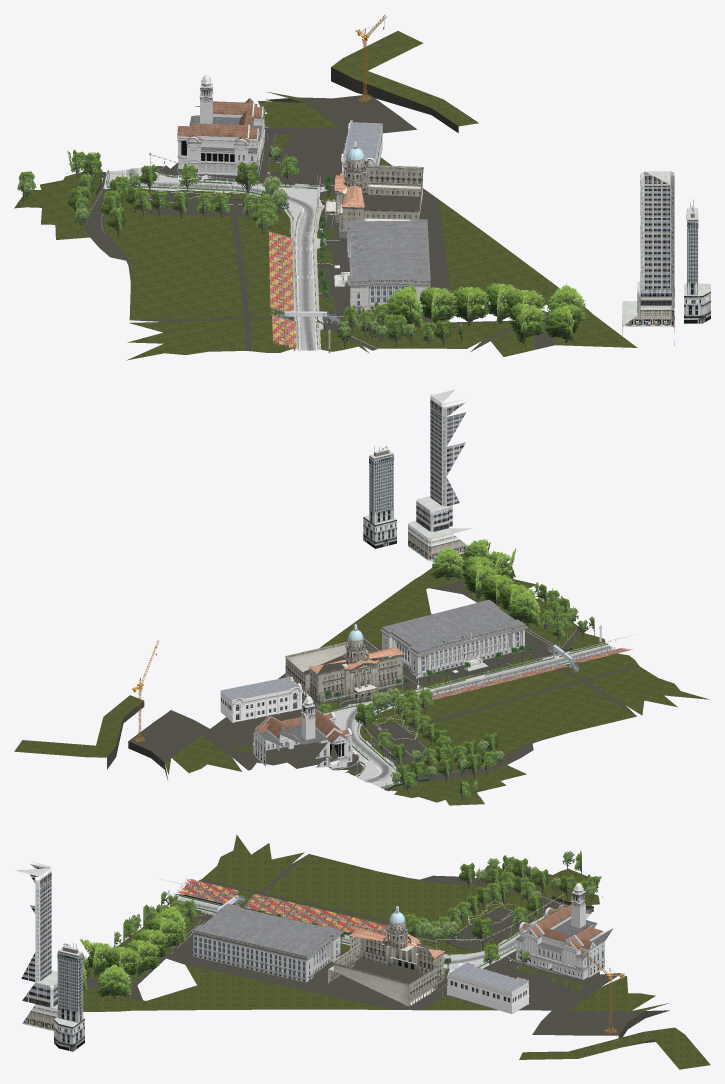
3 renders of one model, top to bottom at view 1: azimuth 30°, elevation 25°; view 2: azimuth 150°, elevation 25°; view 3: azimuth 270°, elevation 25°, orthographic. The views are drawn at different scales.
Parts seen in each view (by area): view 1: m97_t06, m14_t06, m96_t06, m29_t06, m46_t06, m63_t06, m68_t06, m15_t06, m9_t06, m16_t06, m67_t06, m0_t06 (+7 smaller); view 2: m97_t06, m14_t06, m96_t06, m29_t06, m46_t06, m68_t06, m63_t06, m32_t06, m15_t06, m67_t06, m16_t06, m72_t06 (+4 smaller); view 3: m97_t06, m96_t06, m14_t06, m46_t06, m29_t06, m63_t06, m68_t06, m32_t06, m67_t06, m9_t06, m13_t06, m88_t06 (+5 smaller).
Part boxes in pixels (bbox=[...]): m97_t06: bbox=[14, 31, 637, 360]; m14_t06: bbox=[17, 145, 586, 351]; m96_t06: bbox=[84, 67, 555, 351]; m29_t06: bbox=[622, 171, 710, 349]; m46_t06: bbox=[334, 219, 430, 311]; m63_t06: bbox=[177, 75, 265, 175]; m68_t06: bbox=[325, 147, 423, 240]; m15_t06: bbox=[126, 168, 316, 350]; m9_t06: bbox=[269, 232, 295, 349]; m16_t06: bbox=[103, 167, 326, 351]; m67_t06: bbox=[325, 140, 422, 221]; m0_t06: bbox=[101, 136, 407, 353]; m97_t06: bbox=[14, 553, 709, 805]; m14_t06: bbox=[318, 539, 594, 803]; m96_t06: bbox=[107, 580, 639, 790]; m29_t06: bbox=[363, 389, 472, 561]; m46_t06: bbox=[380, 599, 528, 677]; m68_t06: bbox=[284, 629, 403, 703]; m63_t06: bbox=[253, 696, 353, 768]; m32_t06: bbox=[220, 675, 302, 722]; m15_t06: bbox=[344, 645, 615, 783]; m67_t06: bbox=[287, 624, 403, 696]; m16_t06: bbox=[333, 645, 606, 788]; m72_t06: bbox=[330, 643, 614, 788]; m97_t06: bbox=[83, 834, 710, 1069]; m96_t06: bbox=[84, 854, 669, 1046]; m14_t06: bbox=[79, 850, 602, 998]; m46_t06: bbox=[191, 903, 343, 982]; m29_t06: bbox=[14, 861, 84, 1051]; m63_t06: bbox=[515, 883, 612, 979]; m68_t06: bbox=[328, 911, 444, 1006]; m32_t06: bbox=[446, 962, 529, 1013]; m67_t06: bbox=[328, 906, 444, 1006]; m9_t06: bbox=[177, 879, 387, 934]; m13_t06: bbox=[183, 879, 387, 933]; m88_t06: bbox=[173, 881, 386, 934].
Size of the model in its own units: 487 by 149 by 605.
33 materials, 32 textured.
